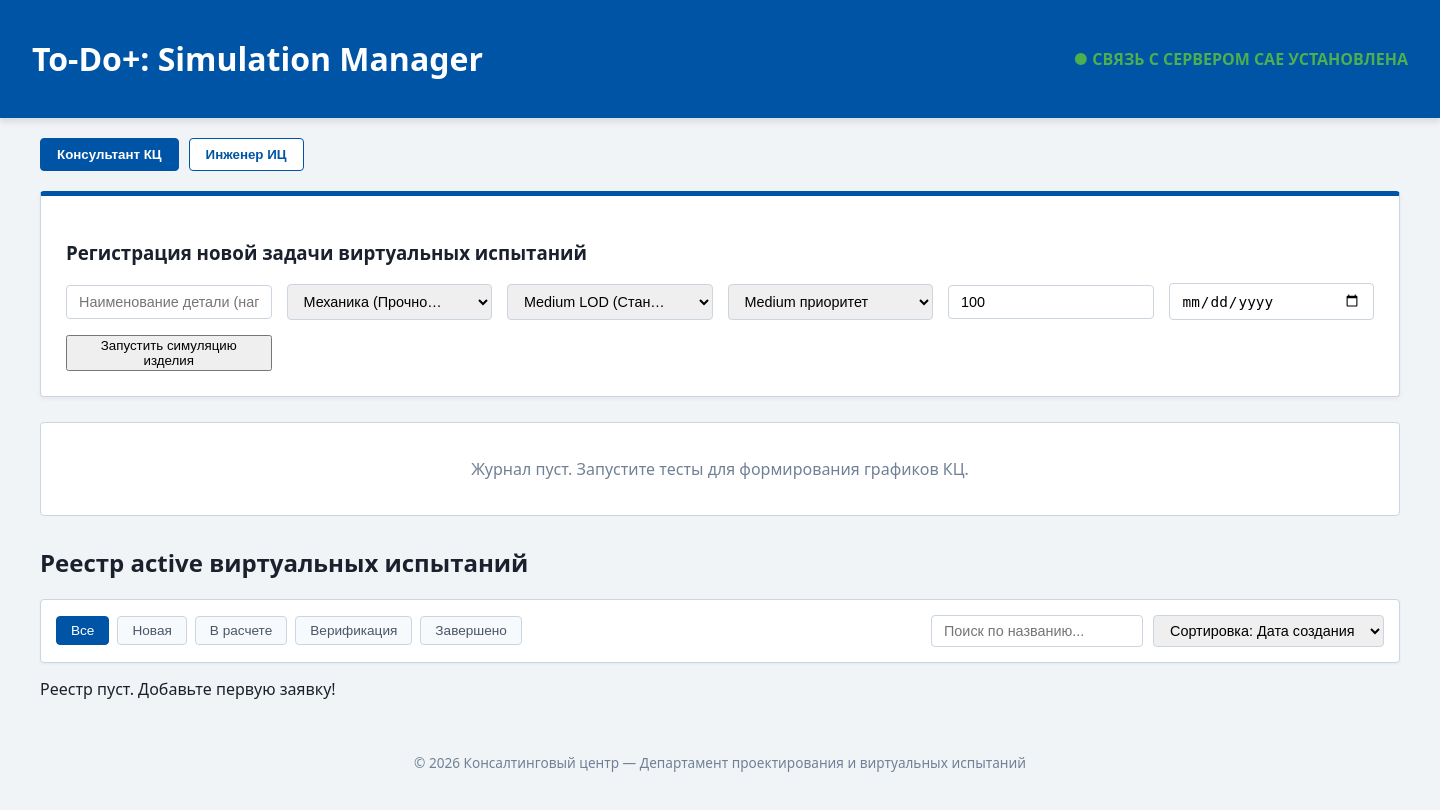
Scenario: Интеграционные тесты графического интерфейса SPA "To-Do+" › Аппаратно скрывает форму регистрации и кнопки удаления при переключении сессии на роль Инженера
The width and height of the screenshot is (1440, 810).
Click the button "Инженер ИЦ" at (246, 154), box [189,138,304,171]
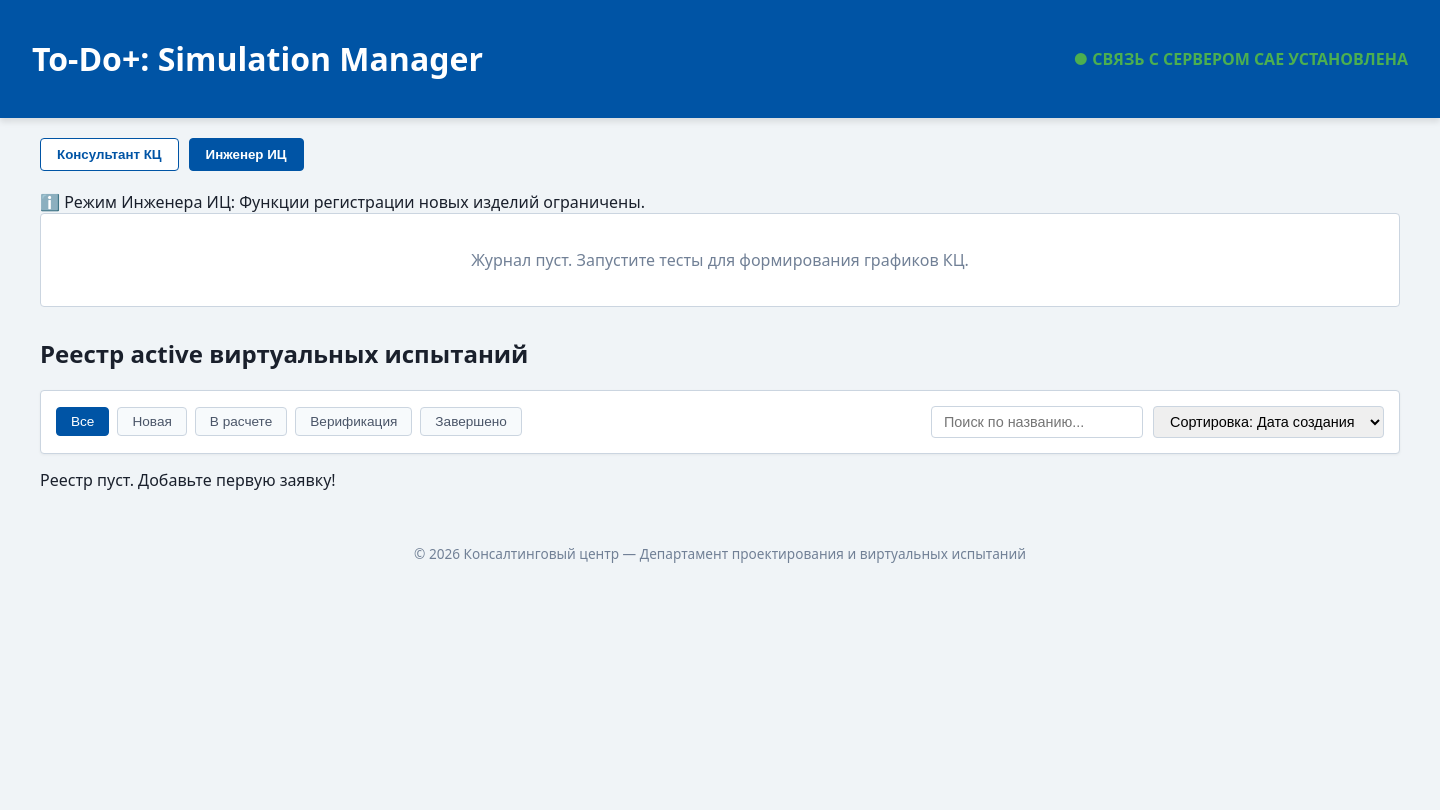
Now the text "Режим Инженера ИЦ" is shown, box [40,191,645,213]
